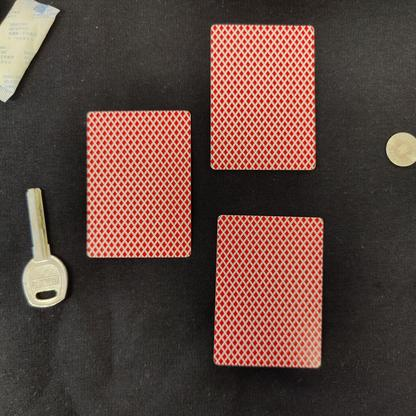card: (77, 104, 199, 264), (201, 16, 323, 176), (206, 210, 328, 370)
